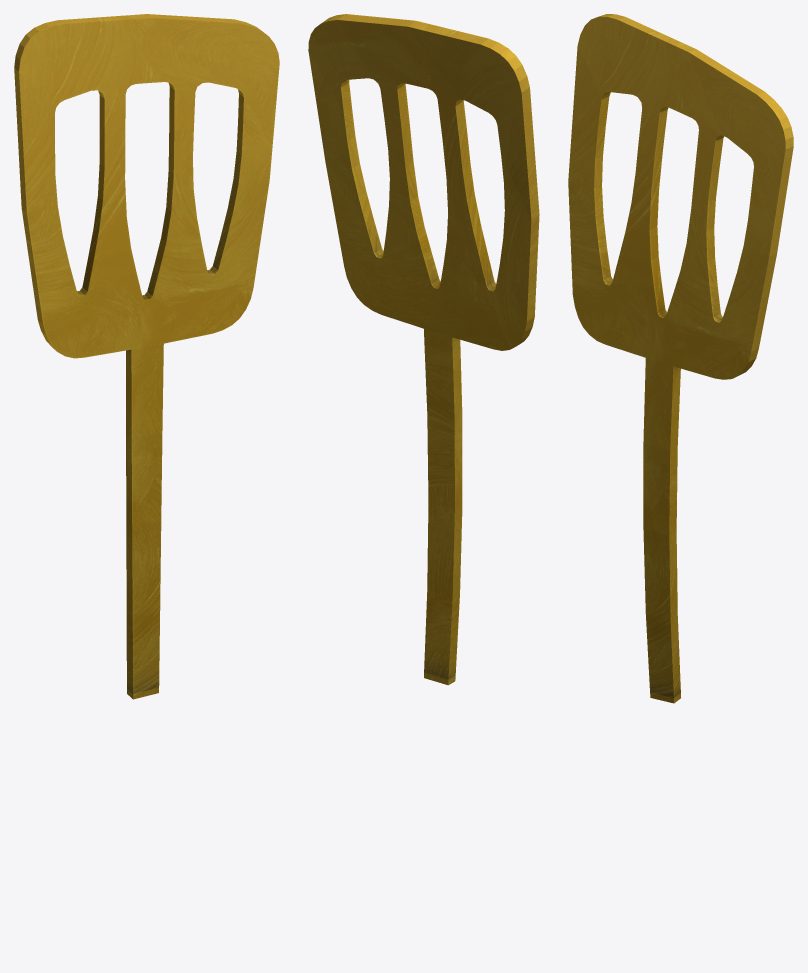
The model's file is goldenspatula.obj.
The picture shows the model from 3 angles, left to right: view 1: azimuth 30°, elevation 25°; view 2: azimuth 150°, elevation 25°; view 3: azimuth 330°, elevation 25°; orthographic projection. The views are drawn at different scales.
Visible parts, largest first — view 1: SM_GoldenSpatula.mo_SM_GoldenSpatula.md.001; view 2: SM_GoldenSpatula.mo_SM_GoldenSpatula.md.001; view 3: SM_GoldenSpatula.mo_SM_GoldenSpatula.md.001.
Part boxes in pixels (<box>): SM_GoldenSpatula.mo_SM_GoldenSpatula.md.001: <box>14,14,279,699</box>; SM_GoldenSpatula.mo_SM_GoldenSpatula.md.001: <box>308,14,539,685</box>; SM_GoldenSpatula.mo_SM_GoldenSpatula.md.001: <box>568,14,793,703</box>.
Bounding box in the file's own units: 0.6162 × 2.31 × 0.1922.
Materials: 1 (1 with a texture image).
